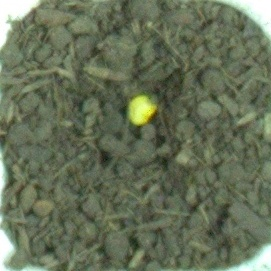pepper seed: (48, 30, 207, 158)
